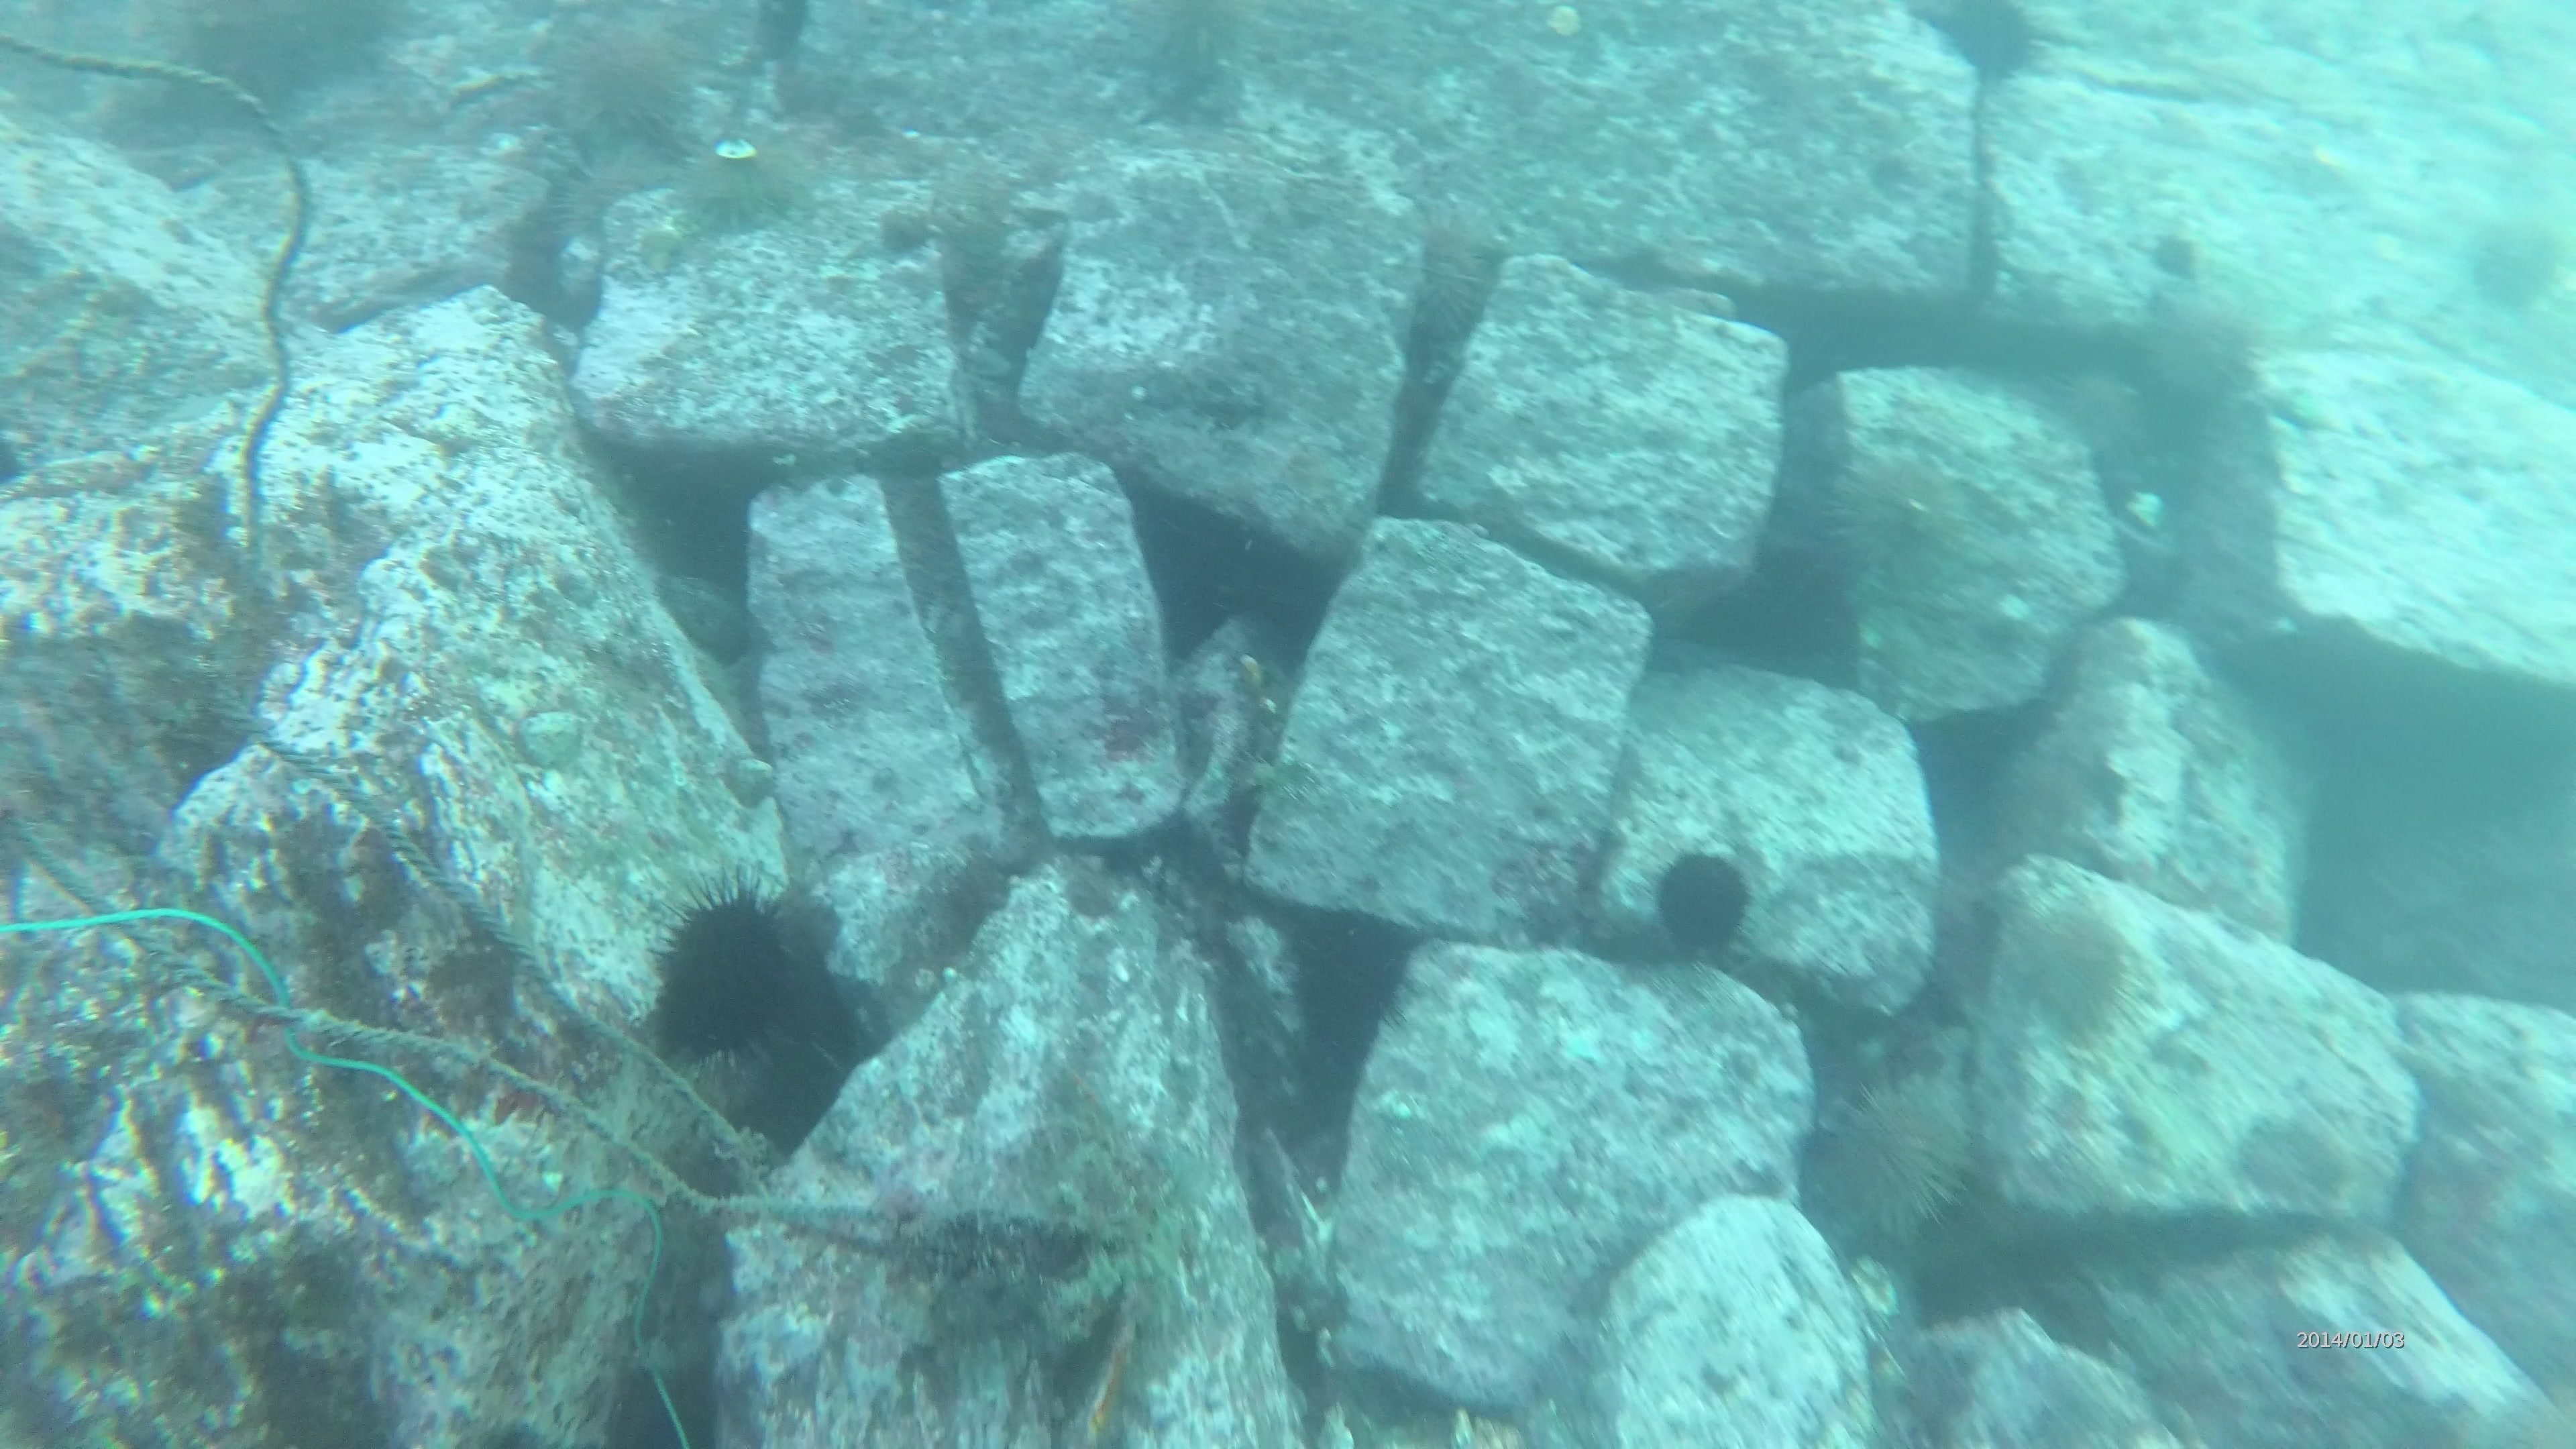echinus: (639, 870, 828, 1074), (1801, 1065, 1983, 1249), (1815, 444, 1980, 619), (536, 14, 708, 152), (2001, 895, 2143, 1046), (1288, 909, 1422, 1040), (2134, 294, 2268, 418), (667, 134, 814, 239), (1642, 842, 1760, 966), (1907, 2, 2058, 92), (2459, 212, 2565, 320)
